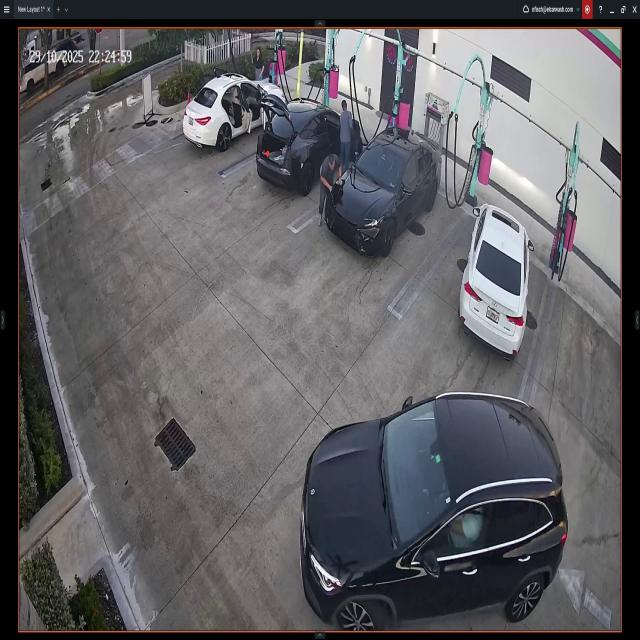Car: (294, 396, 568, 633), (328, 130, 441, 260), (257, 92, 361, 189), (464, 203, 526, 357), (181, 73, 285, 152)
